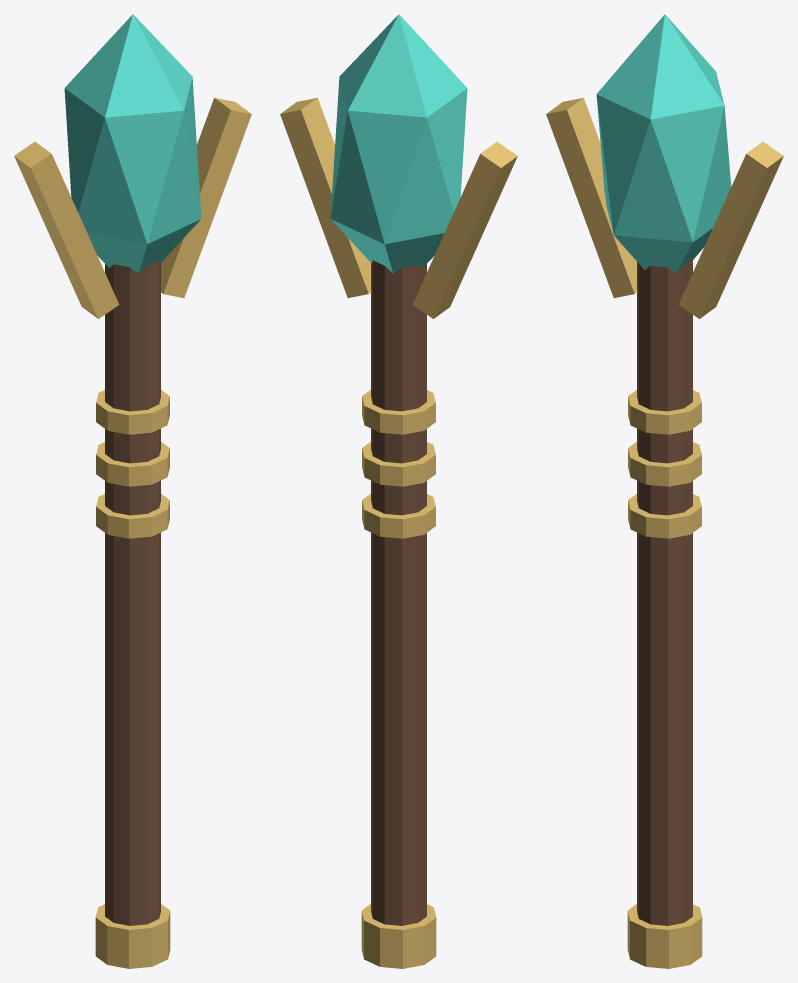
File: staff-3.glb
3 views of the same model, side by side, from view 1: azimuth 30°, elevation 25°; view 2: azimuth 150°, elevation 25°; view 3: azimuth 330°, elevation 25° (orthographic).
Visible parts, largest first — view 1: Twisted walnut grip.002, Faceted moon crystal.002, Antler crystal cradle.004, Antler crystal cradle.005, Pommel.002, Rank gold inlay.003, Rank gold inlay.004, Rank gold inlay.005; view 2: Twisted walnut grip.002, Faceted moon crystal.002, Antler crystal cradle.004, Antler crystal cradle.005, Pommel.002, Rank gold inlay.003, Rank gold inlay.004, Rank gold inlay.005; view 3: Twisted walnut grip.002, Faceted moon crystal.002, Antler crystal cradle.004, Antler crystal cradle.005, Pommel.002, Rank gold inlay.003, Rank gold inlay.004, Rank gold inlay.005.
Part boxes in pixels (x1,y1,x2,y2): Twisted walnut grip.002: (105, 260, 160, 925); Faceted moon crystal.002: (64, 14, 201, 273); Antler crystal cradle.004: (14, 141, 119, 318); Antler crystal cradle.005: (160, 98, 251, 297); Pommel.002: (95, 904, 170, 968); Rank gold inlay.003: (96, 494, 169, 538); Rank gold inlay.004: (96, 442, 169, 486); Rank gold inlay.005: (96, 390, 169, 434); Twisted walnut grip.002: (371, 260, 426, 925); Faceted moon crystal.002: (330, 14, 467, 273); Antler crystal cradle.004: (412, 141, 517, 318); Antler crystal cradle.005: (280, 98, 371, 297); Pommel.002: (361, 904, 436, 968); Rank gold inlay.003: (362, 494, 435, 538); Rank gold inlay.004: (362, 442, 435, 486); Rank gold inlay.005: (362, 390, 435, 434); Twisted walnut grip.002: (637, 258, 692, 925); Faceted moon crystal.002: (596, 14, 731, 272); Antler crystal cradle.004: (546, 98, 637, 297); Antler crystal cradle.005: (678, 141, 783, 318); Pommel.002: (627, 904, 702, 968); Rank gold inlay.003: (628, 494, 701, 538); Rank gold inlay.004: (628, 442, 701, 486); Rank gold inlay.005: (628, 390, 701, 434).
Bounding box in the file's own units: 0.5342 × 2.17 × 0.2739.
